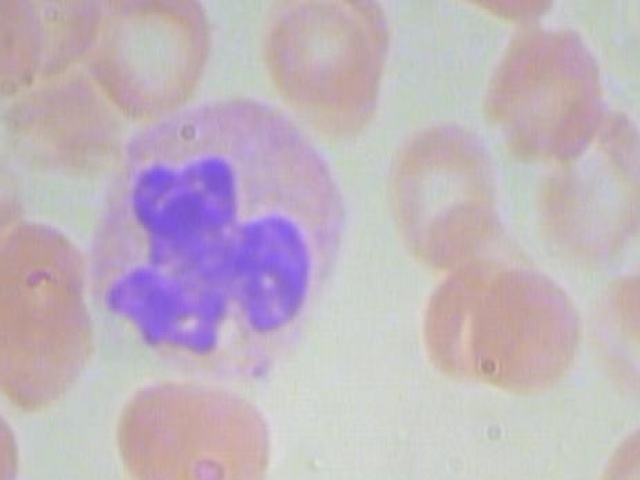WBC: (72, 92, 349, 392)
